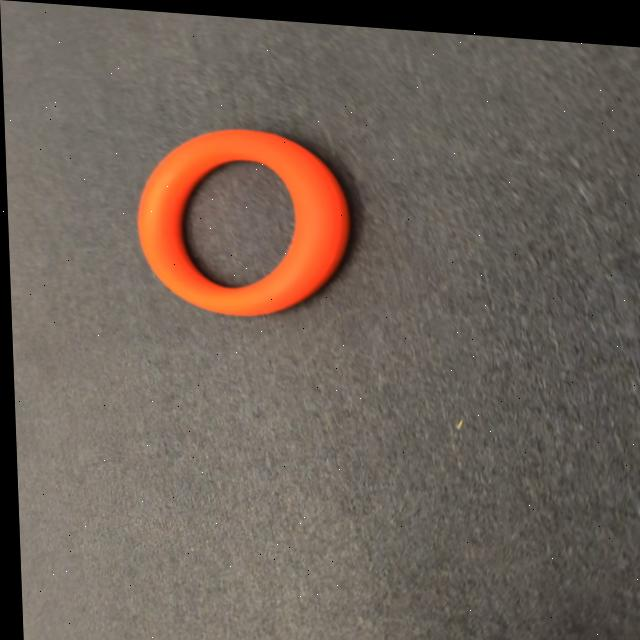note: (133, 124, 355, 315)
